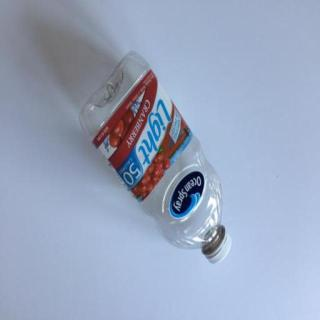Anorganik: (76, 50, 234, 266)
